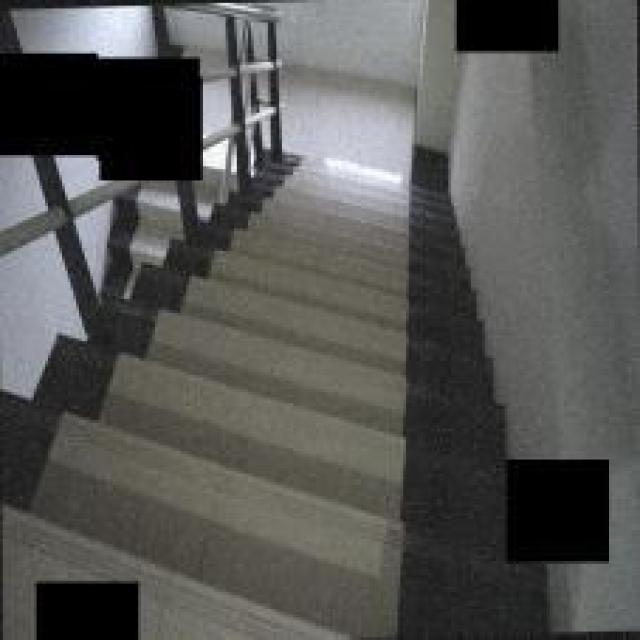downstair: (182, 233, 464, 636)
